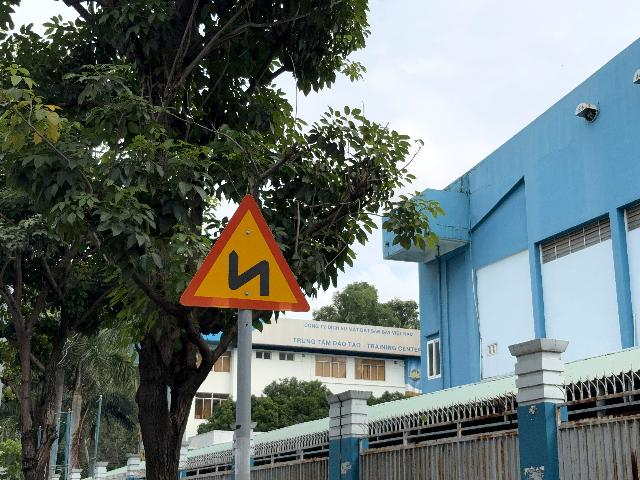nhieu-cho-ngoat-nguy-hiem-lien-tiep: (180, 194, 310, 312)
